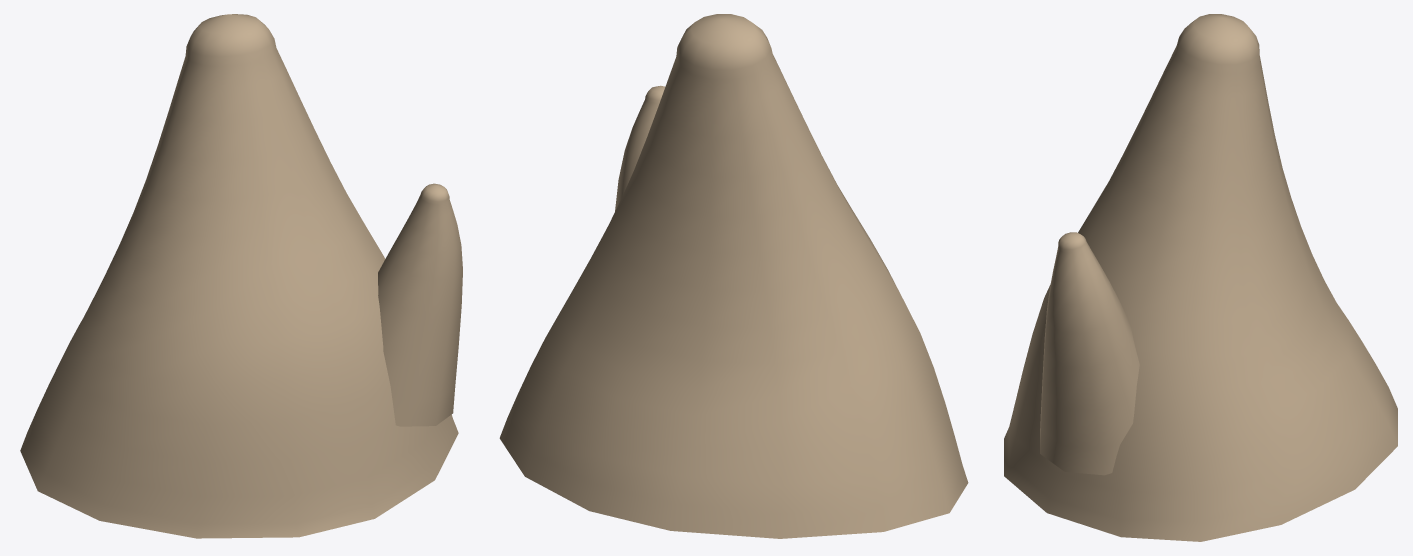
The model's file is savanna-wildlife-termite-mound-16a054f1__6532.glb.
3 views of the same model, side by side, from view 1: azimuth 30°, elevation 25°; view 2: azimuth 150°, elevation 25°; view 3: azimuth 270°, elevation 25° (orthographic). The views are drawn at different scales.
Visible parts, largest first — view 1: termite-mound; view 2: termite-mound; view 3: termite-mound.
Part boxes in pixels (<box>): termite-mound: <box>20,14,462,538</box>; termite-mound: <box>499,14,968,538</box>; termite-mound: <box>1004,14,1397,541</box>.
Bounding box in the file's own units: 2.2 × 2.27 × 1.85.
